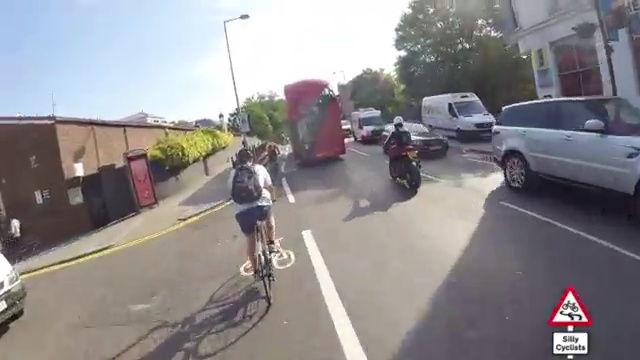cyclist_back: (224, 147, 282, 310), (378, 110, 425, 196)
